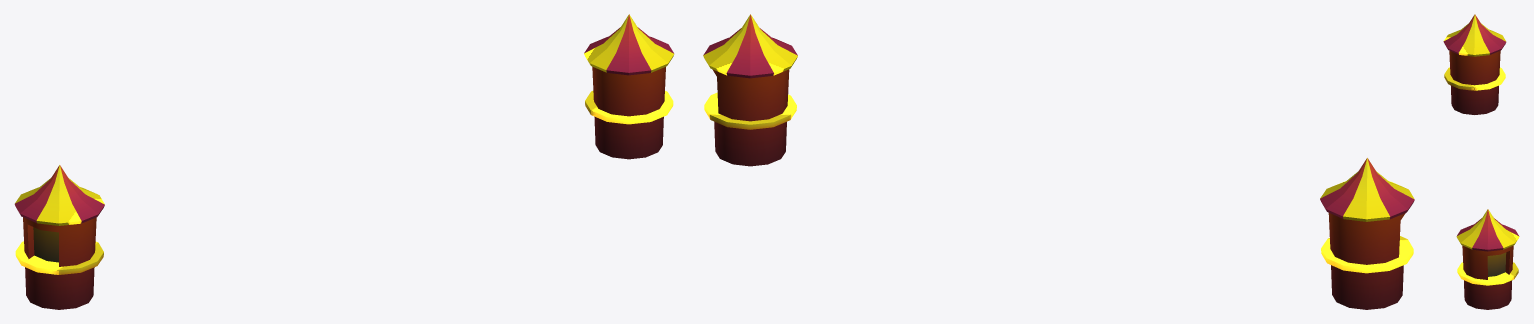
Rendered from trainticket.glb.
3 renders of one model, left to right at view 1: azimuth 30°, elevation 25°; view 2: azimuth 150°, elevation 25°; view 3: azimuth 270°, elevation 25°, orthographic. The views are drawn at different scales.
Visible parts, largest first — view 1: polySurface43_surfaceShader3_0.002, polySurface43_surfaceShader3_0.001; view 2: polySurface43_surfaceShader3_0.002, polySurface43_surfaceShader3_0.001; view 3: polySurface43_surfaceShader3_0.001, polySurface43_surfaceShader3_0.002.
Part boxes in pixels (box(x1,y1,x2,y2)): polySurface43_surfaceShader3_0.002: box(584, 14, 674, 159); polySurface43_surfaceShader3_0.001: box(14, 165, 104, 309); polySurface43_surfaceShader3_0.002: box(703, 14, 797, 166); polySurface43_surfaceShader3_0.001: box(1320, 158, 1414, 309); polySurface43_surfaceShader3_0.001: box(1443, 14, 1506, 114); polySurface43_surfaceShader3_0.002: box(1456, 209, 1519, 309).
Size of the model in its own units: 3.41 by 0.6625 by 0.4912.
2 materials, 2 textured.
